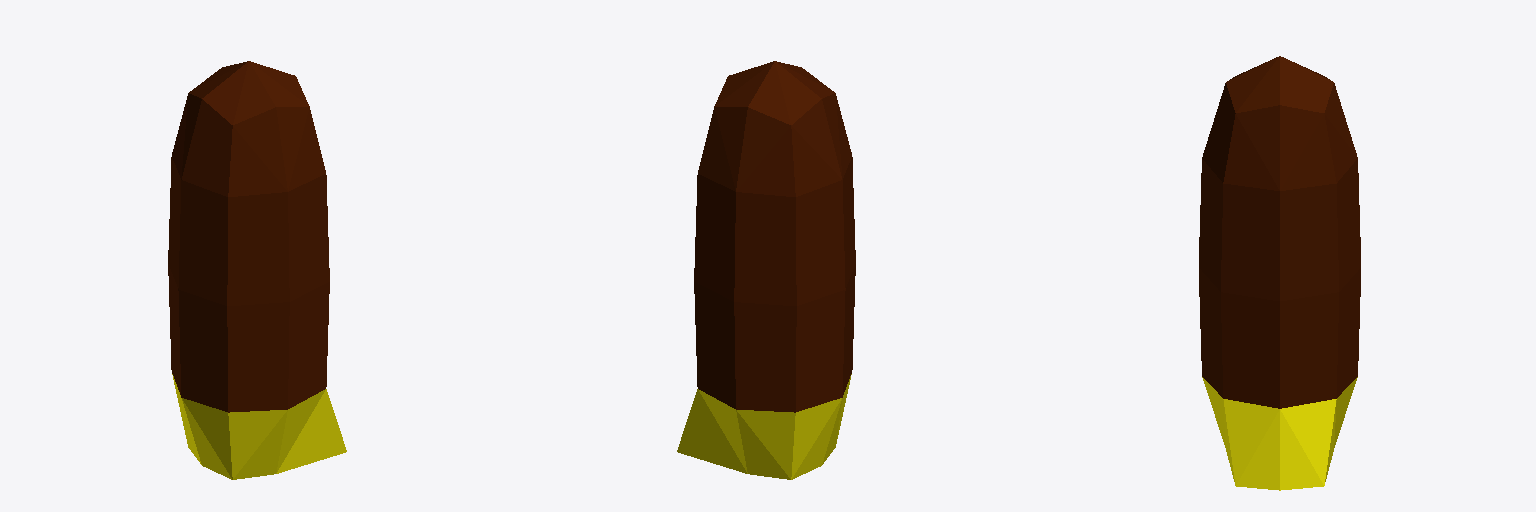
File: owl_left_leg.obj
The picture shows the model from 3 angles: view 1: azimuth 30°, elevation 25°; view 2: azimuth 150°, elevation 25°; view 3: azimuth 270°, elevation 25°; orthographic projection.
Visible parts, largest first — view 1: owl_left_leg; view 2: owl_left_leg; view 3: owl_left_leg.
Boxes of the visible parts, x1,y1,x2,y2 form: owl_left_leg: [168, 61, 346, 479]; owl_left_leg: [677, 61, 855, 479]; owl_left_leg: [1199, 56, 1360, 490].
Size of the model in its own units: 0.1063 by 0.2576 by 0.0967.